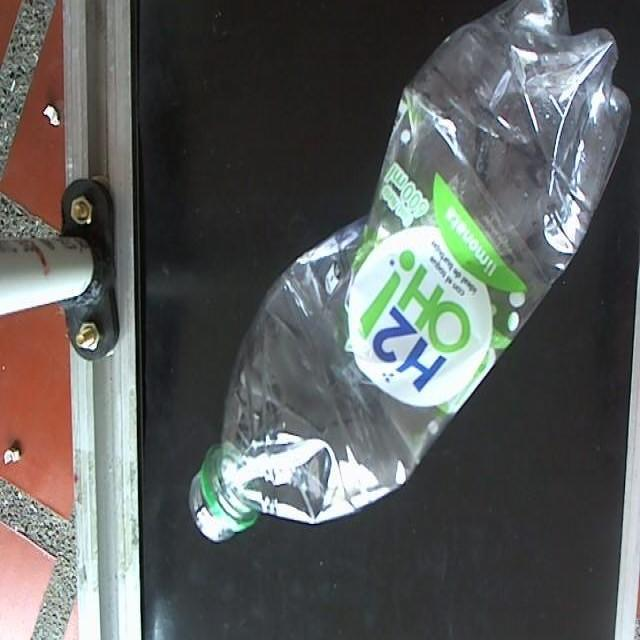defect: (185, 1, 635, 548)
